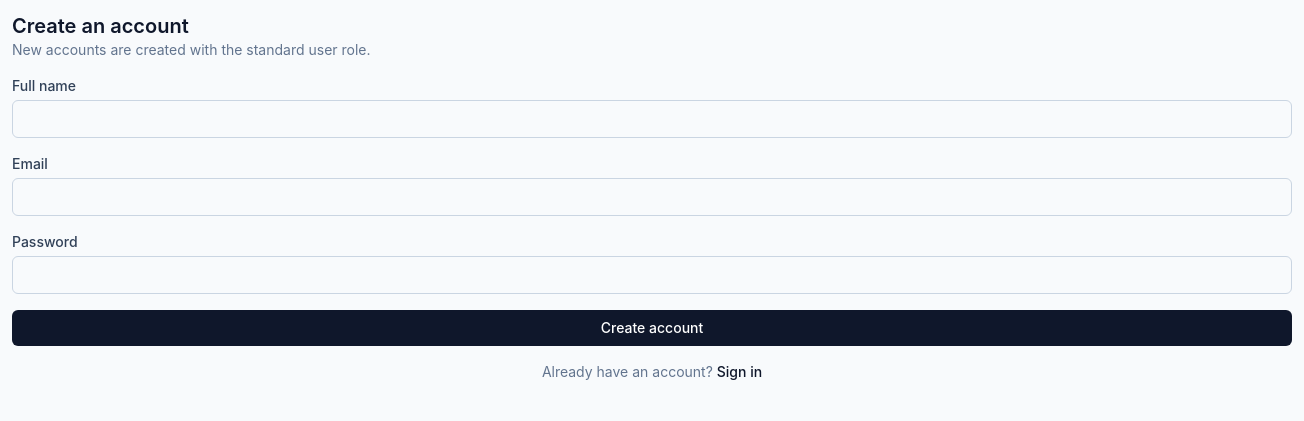
it: RegisterForm › shows a validation error when the password is too short
Step 1. Type "Ada Lovelace" into the field labelled "Full name" → (652, 119), box [12,100,1292,138]
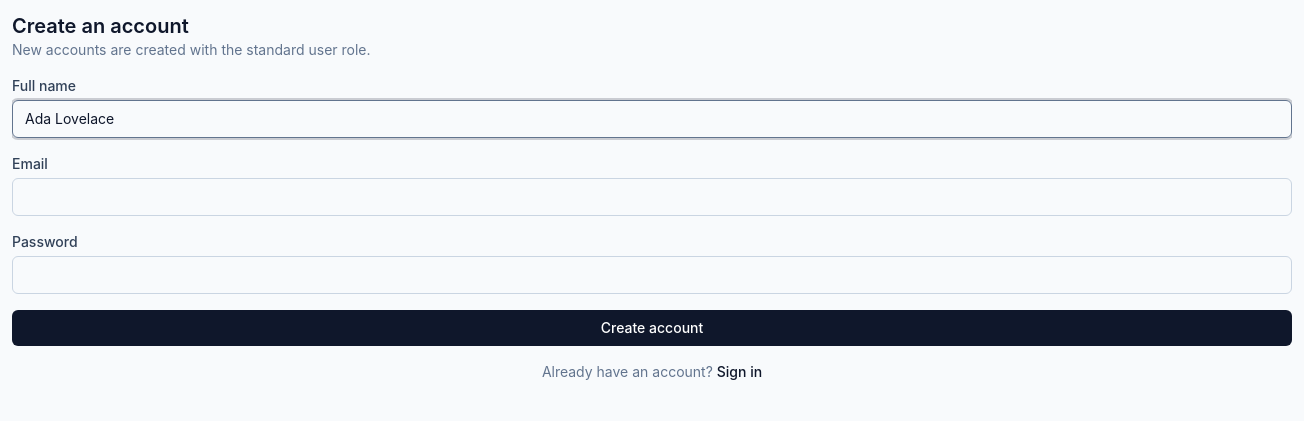
Step 2. Type "ada@example.com" into the field labelled "Email" → (652, 197), box [12,178,1292,216]
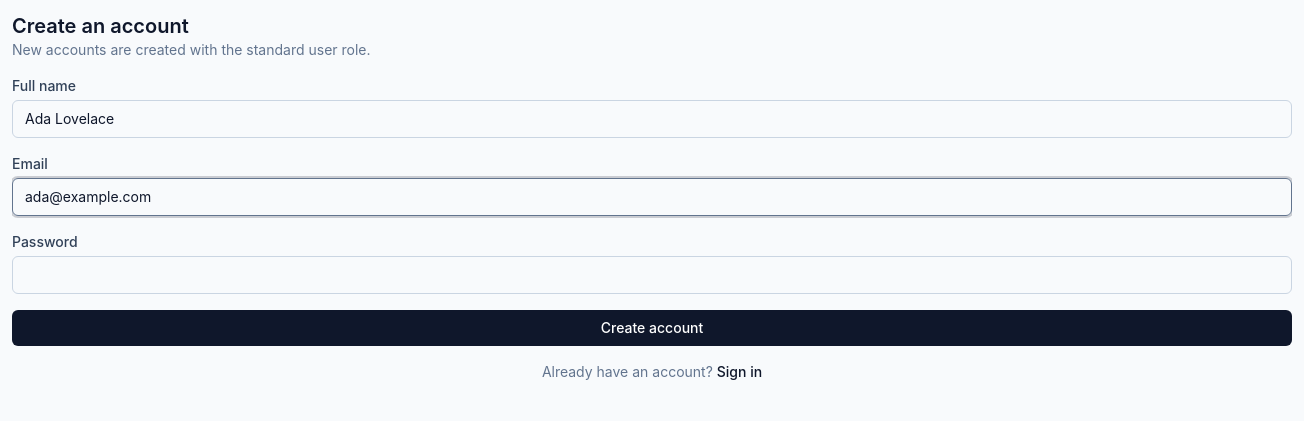
Step 3. Type "short" into the password field labelled "Password" → (652, 275), box [12,256,1292,294]
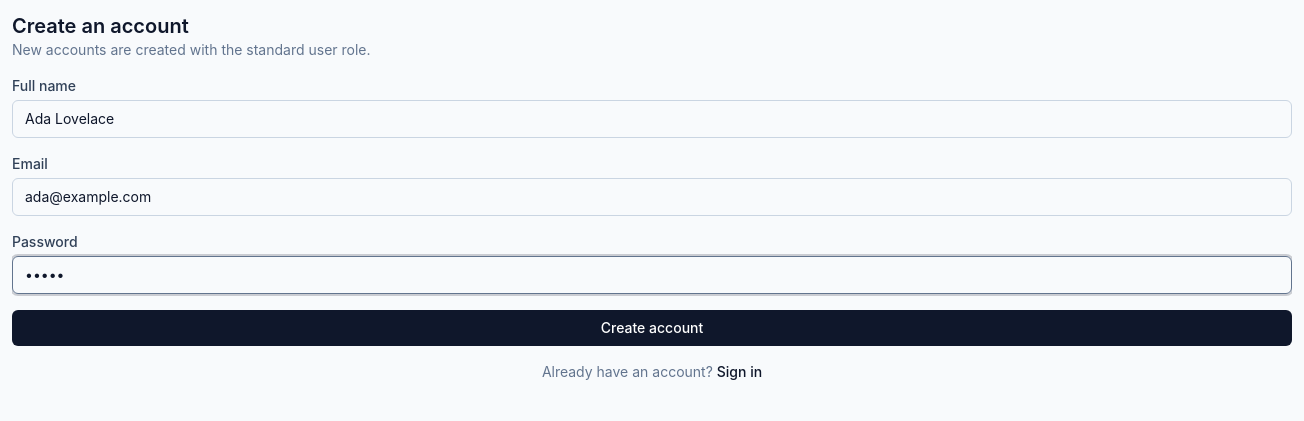
Step 4. Click the button "Create account" → (652, 328), box [12,310,1292,346]
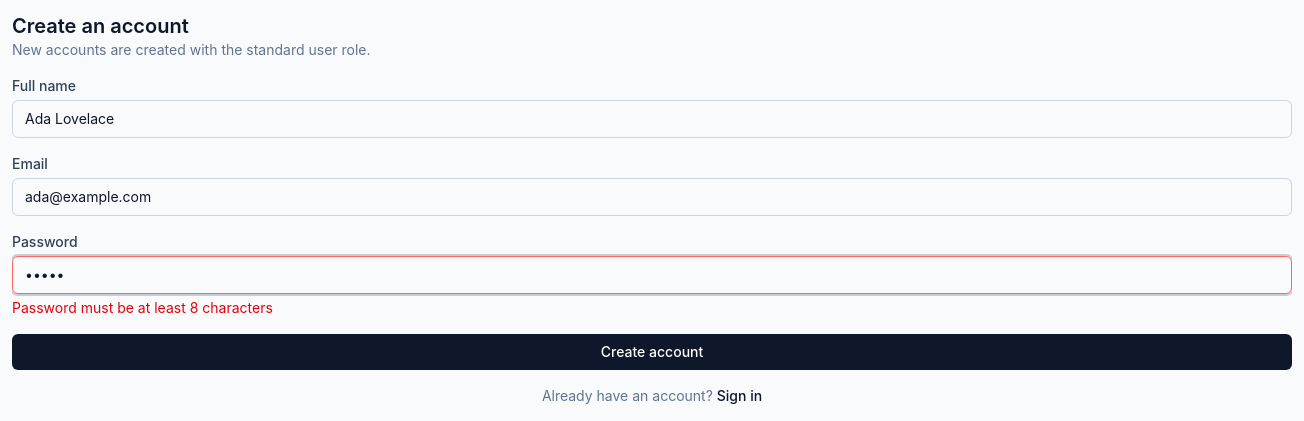
Check: the text "Password must be at least 8 characters" is shown, box [12,299,273,316]
